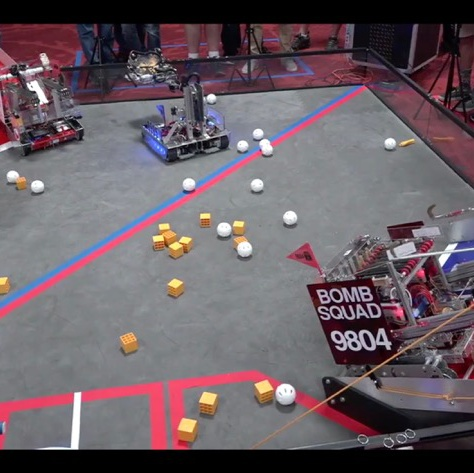robot: (286, 201, 474, 386), (120, 45, 230, 164), (0, 51, 88, 158)
